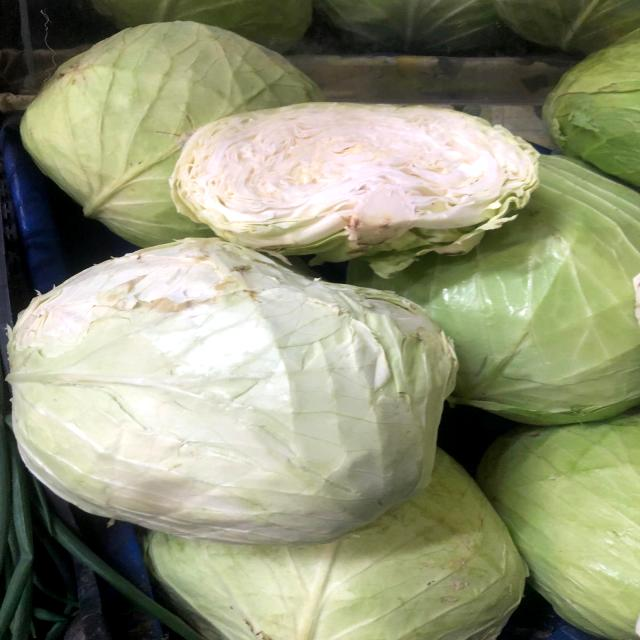cabbage: (8, 226, 467, 553), (159, 82, 552, 269)
